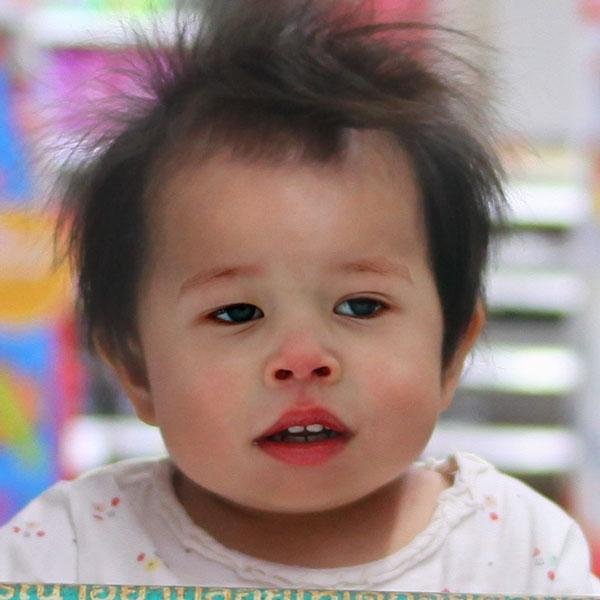Eyes: (196, 290, 274, 338), (324, 282, 397, 329)
